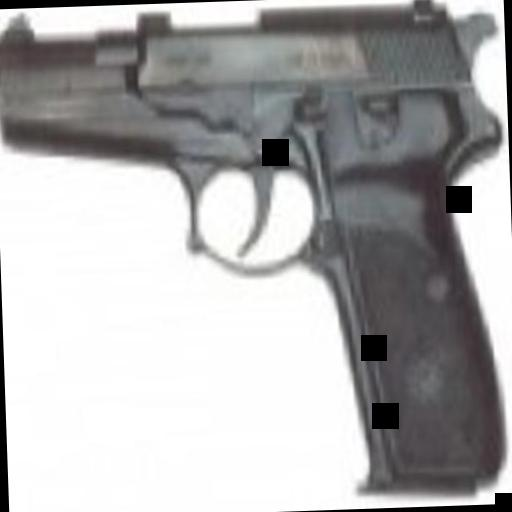Handgun: (0, 0, 509, 512)
